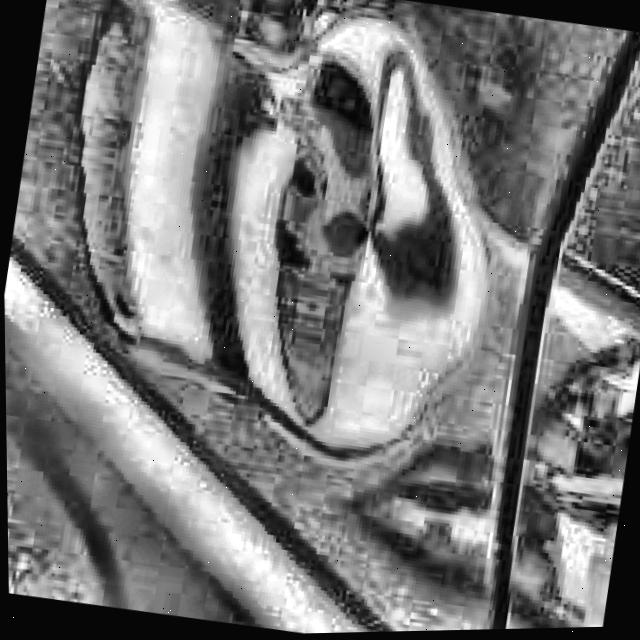door_dent: (29, 0, 528, 476)
